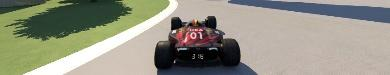Car: (153, 15, 240, 69)
Tree: (4, 0, 132, 41)
grass: (0, 0, 170, 74)
obstacles-Borders: (0, 0, 47, 7)
